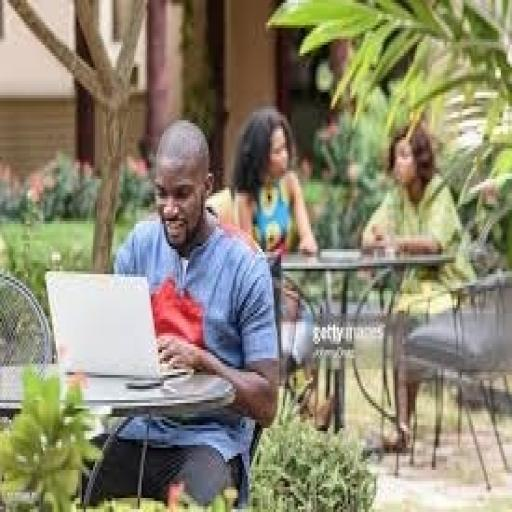using_laptop: (42, 266, 194, 380)
